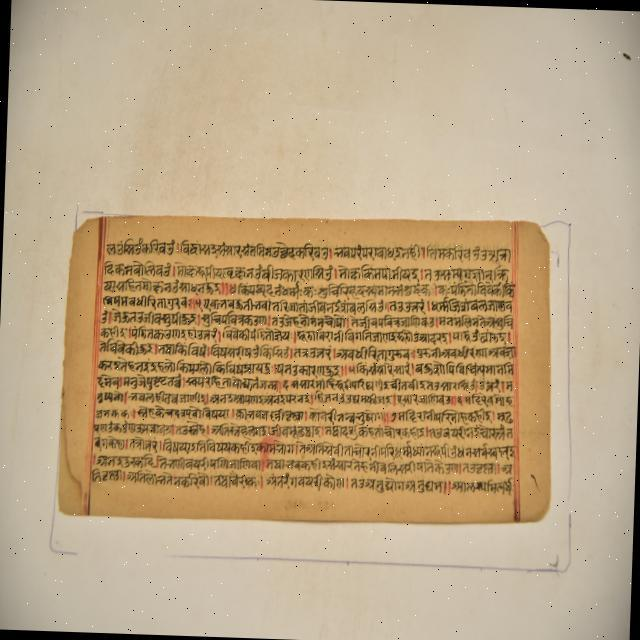text_paragraph: (57, 210, 545, 516)
